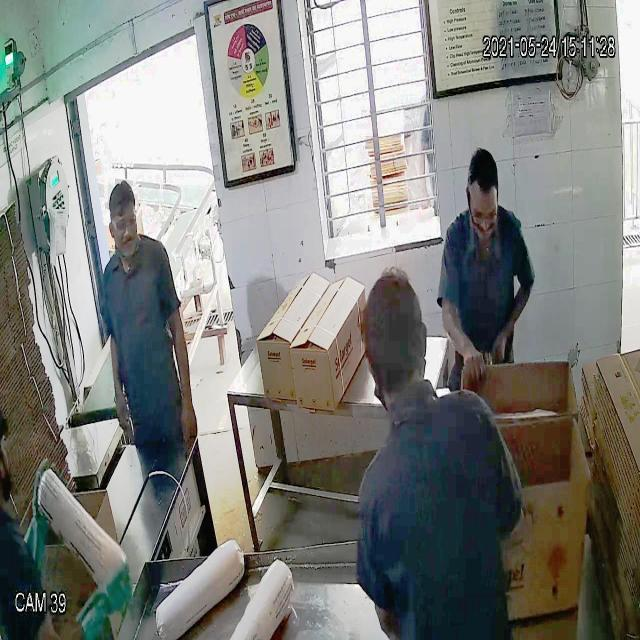glasses: (104, 206, 142, 238)
